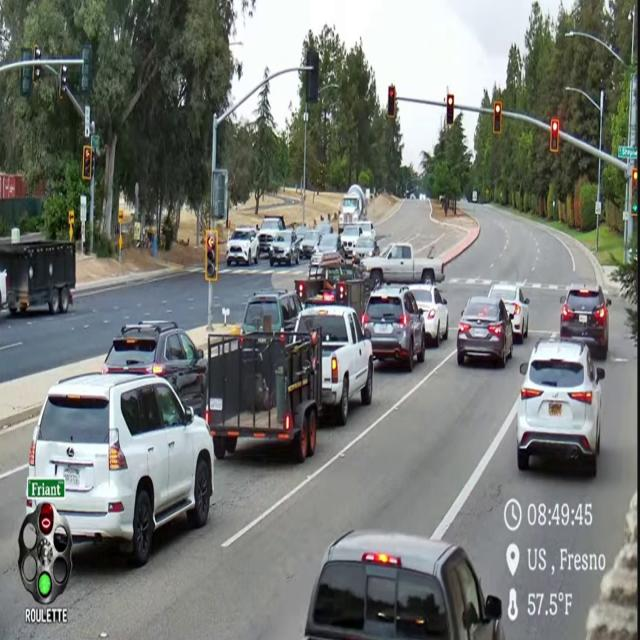car: (29, 374, 213, 565), (305, 531, 503, 639), (517, 340, 604, 475), (102, 320, 206, 415), (362, 286, 425, 370), (457, 296, 513, 367), (560, 285, 611, 359), (241, 289, 301, 334), (489, 284, 529, 343), (410, 285, 448, 346), (227, 227, 259, 265), (269, 230, 299, 266), (258, 216, 285, 254), (312, 234, 343, 257), (353, 235, 379, 261), (340, 224, 361, 256), (300, 230, 321, 258), (356, 221, 376, 239), (316, 222, 334, 235), (294, 225, 309, 239)
traffic signal: (306, 50, 319, 103), (205, 230, 218, 281), (81, 45, 92, 94), (39, 504, 54, 535), (20, 66, 32, 96), (82, 145, 92, 181), (387, 85, 396, 119), (550, 119, 559, 153), (493, 101, 502, 135), (59, 65, 67, 99), (446, 95, 454, 126), (632, 168, 637, 216), (32, 64, 41, 82)
truck: (205, 332, 322, 463), (295, 306, 373, 425), (0, 241, 75, 313), (295, 254, 372, 314), (361, 243, 444, 287), (338, 184, 367, 232), (258, 216, 285, 255), (0, 271, 7, 310)
